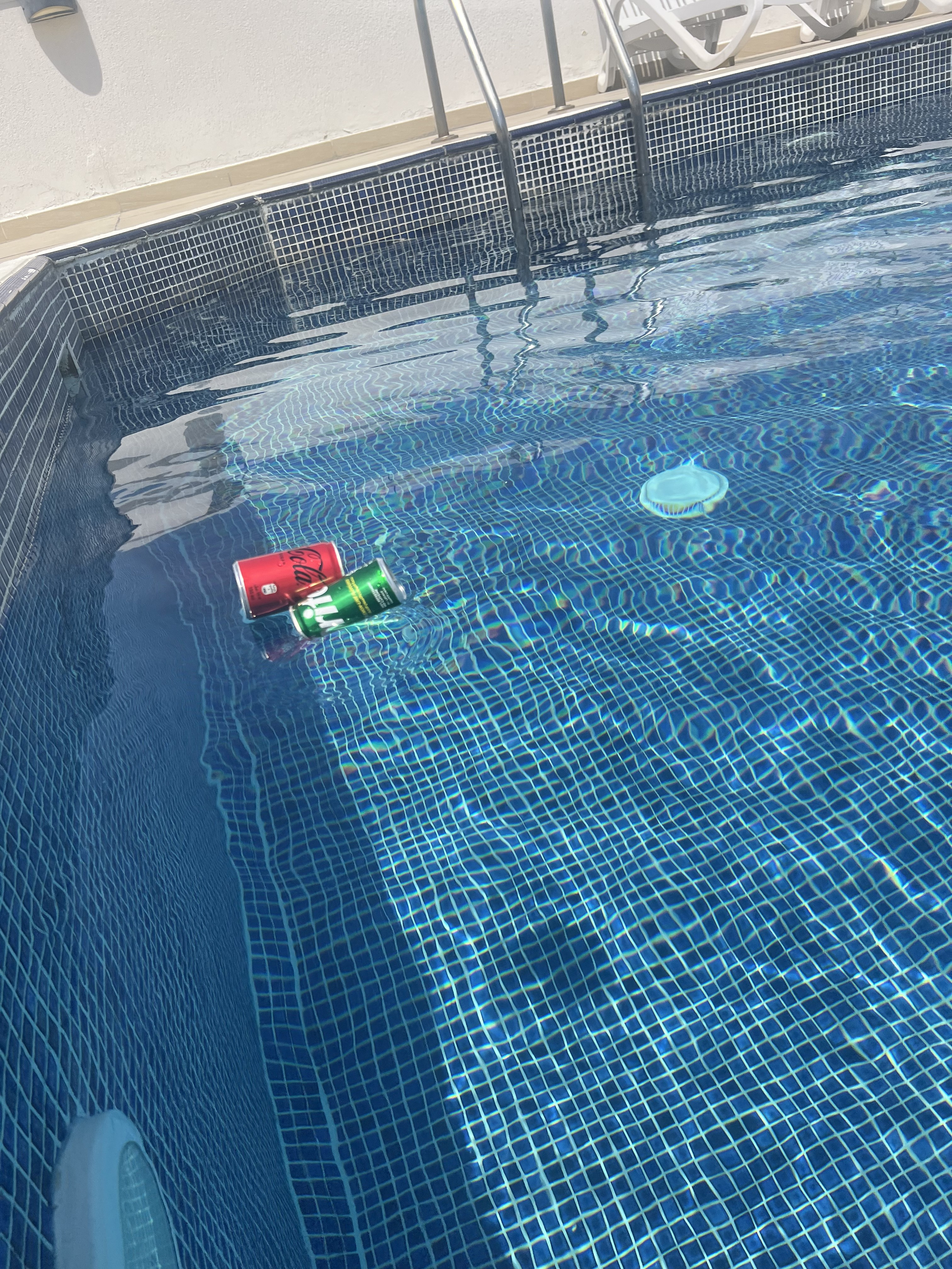debris: (286, 544, 410, 651), (227, 533, 344, 626)
